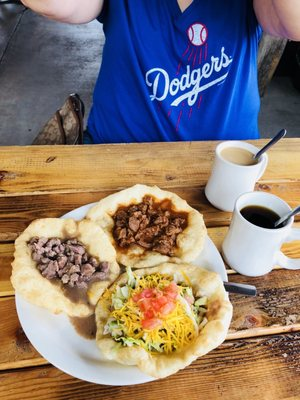pizza: (220, 191, 300, 277), (204, 141, 269, 212)
salad: (254, 128, 287, 161), (274, 205, 300, 228)
soup: (94, 261, 232, 379)
